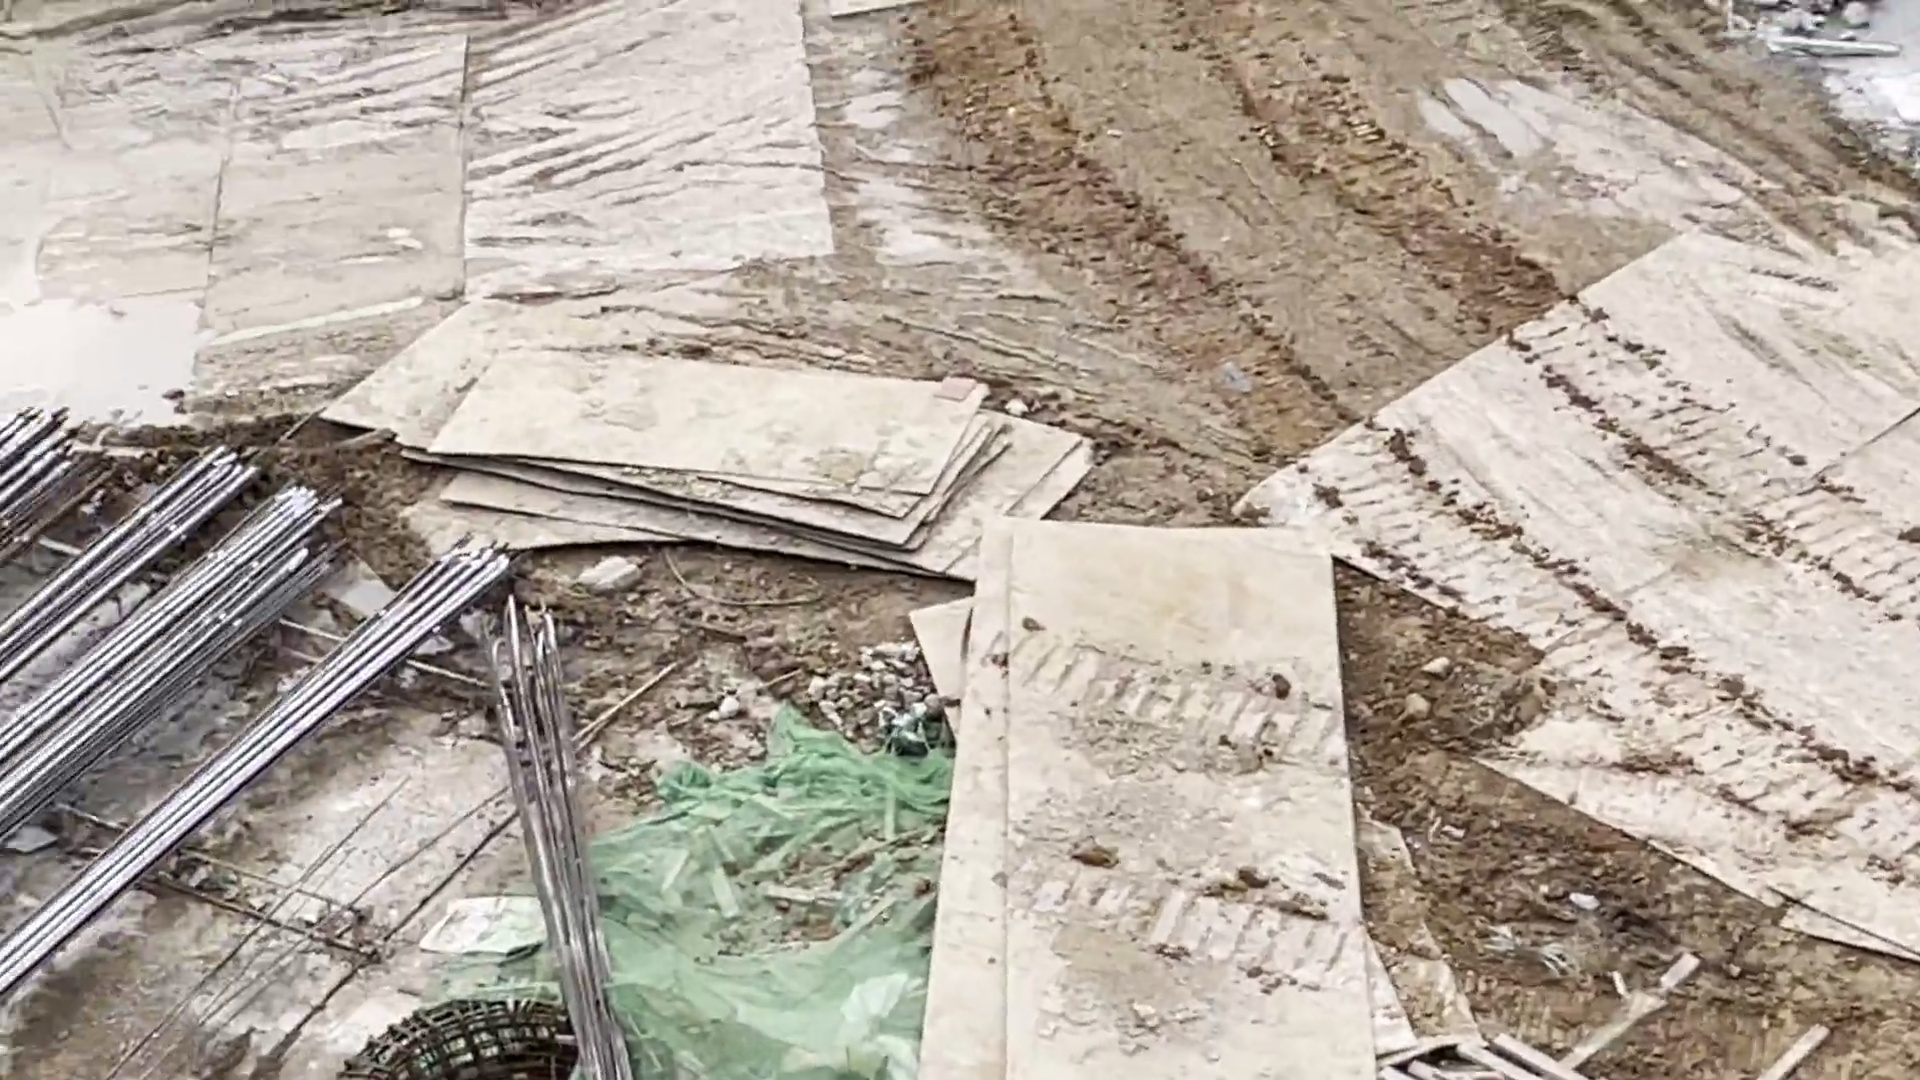rebar: (3, 411, 488, 1033), (489, 600, 620, 1080)
